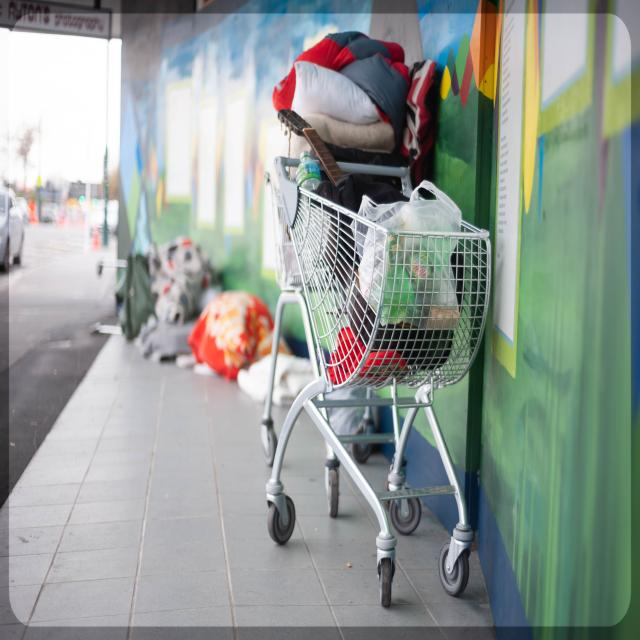Metal: (255, 158, 498, 594)
